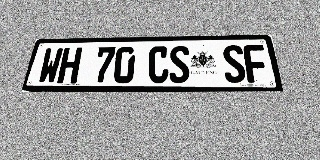0: (113, 47, 136, 83)
7: (92, 47, 116, 83)
C: (148, 46, 169, 83)
F: (243, 45, 270, 83)
H: (57, 47, 83, 84)
S: (222, 45, 247, 83), (169, 46, 190, 83)
W: (37, 48, 64, 84)
